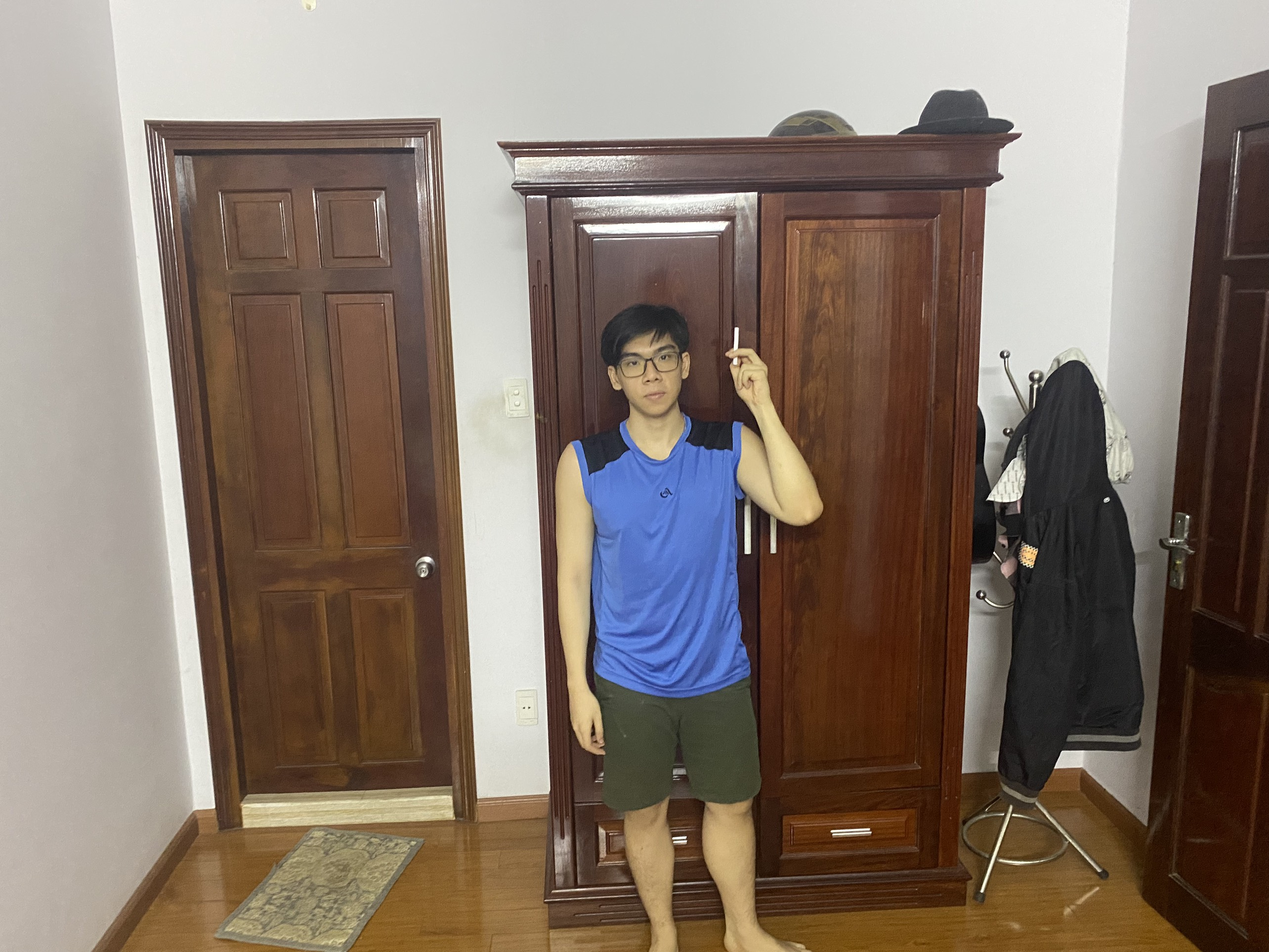cigarette: (727, 323, 744, 351)
person: (545, 311, 829, 952)
